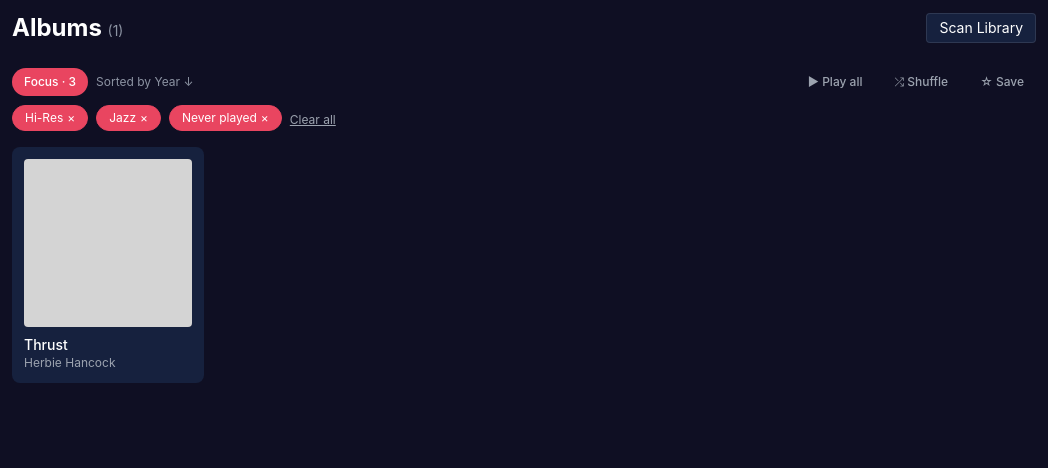
Focus on the albums page › saving a Focus (R05.3) › bookmarks this page with this question and tells the sidebar
The image size is (1048, 468).
Click the button "☆ Save": (1002, 82) 968,68 -> 1036,96
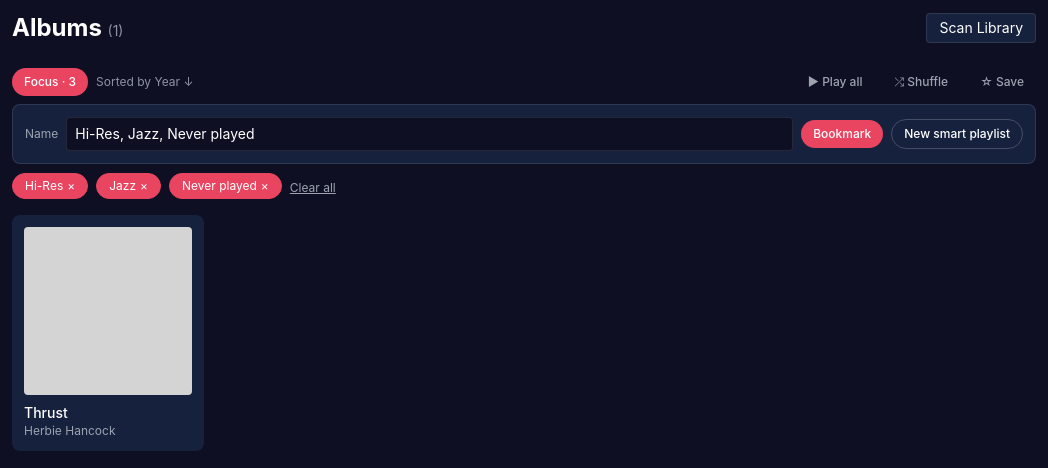
Now the field holds "Hi-Res, Jazz, Never played"
Replace the text in the field with "Seventies hi-res": (430, 134) 66,117 -> 793,151
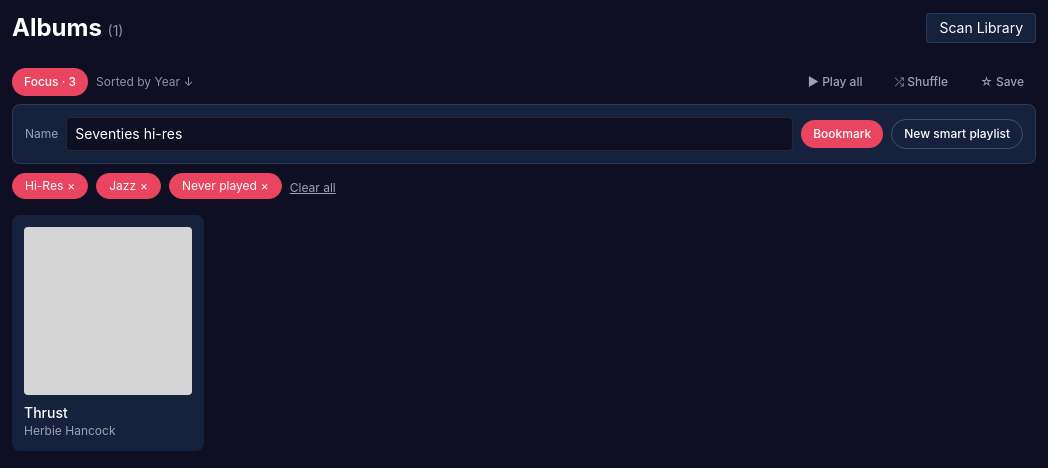
Click the button "Bookmark": (842, 134) 801,120 -> 883,148
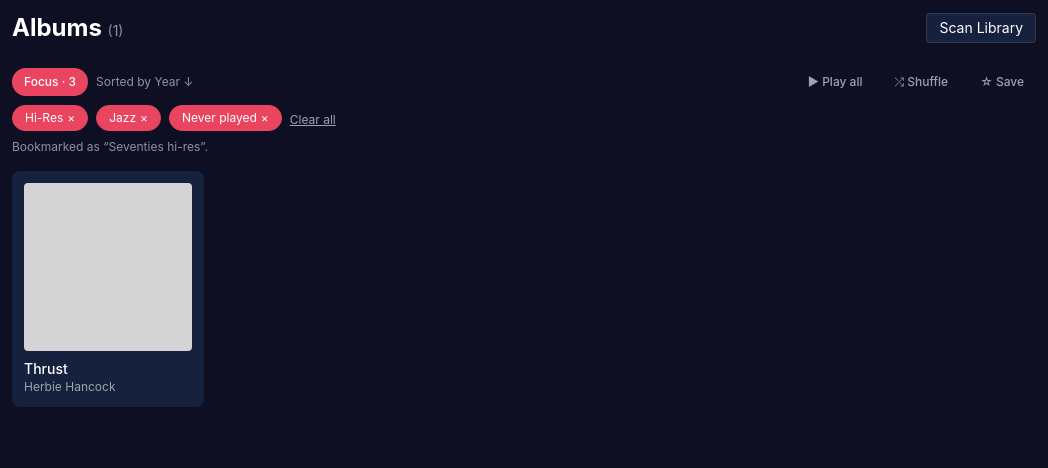
Now the text "Bookmarked as “Seventies hi-res”." is shown, box 12,139 -> 208,154
